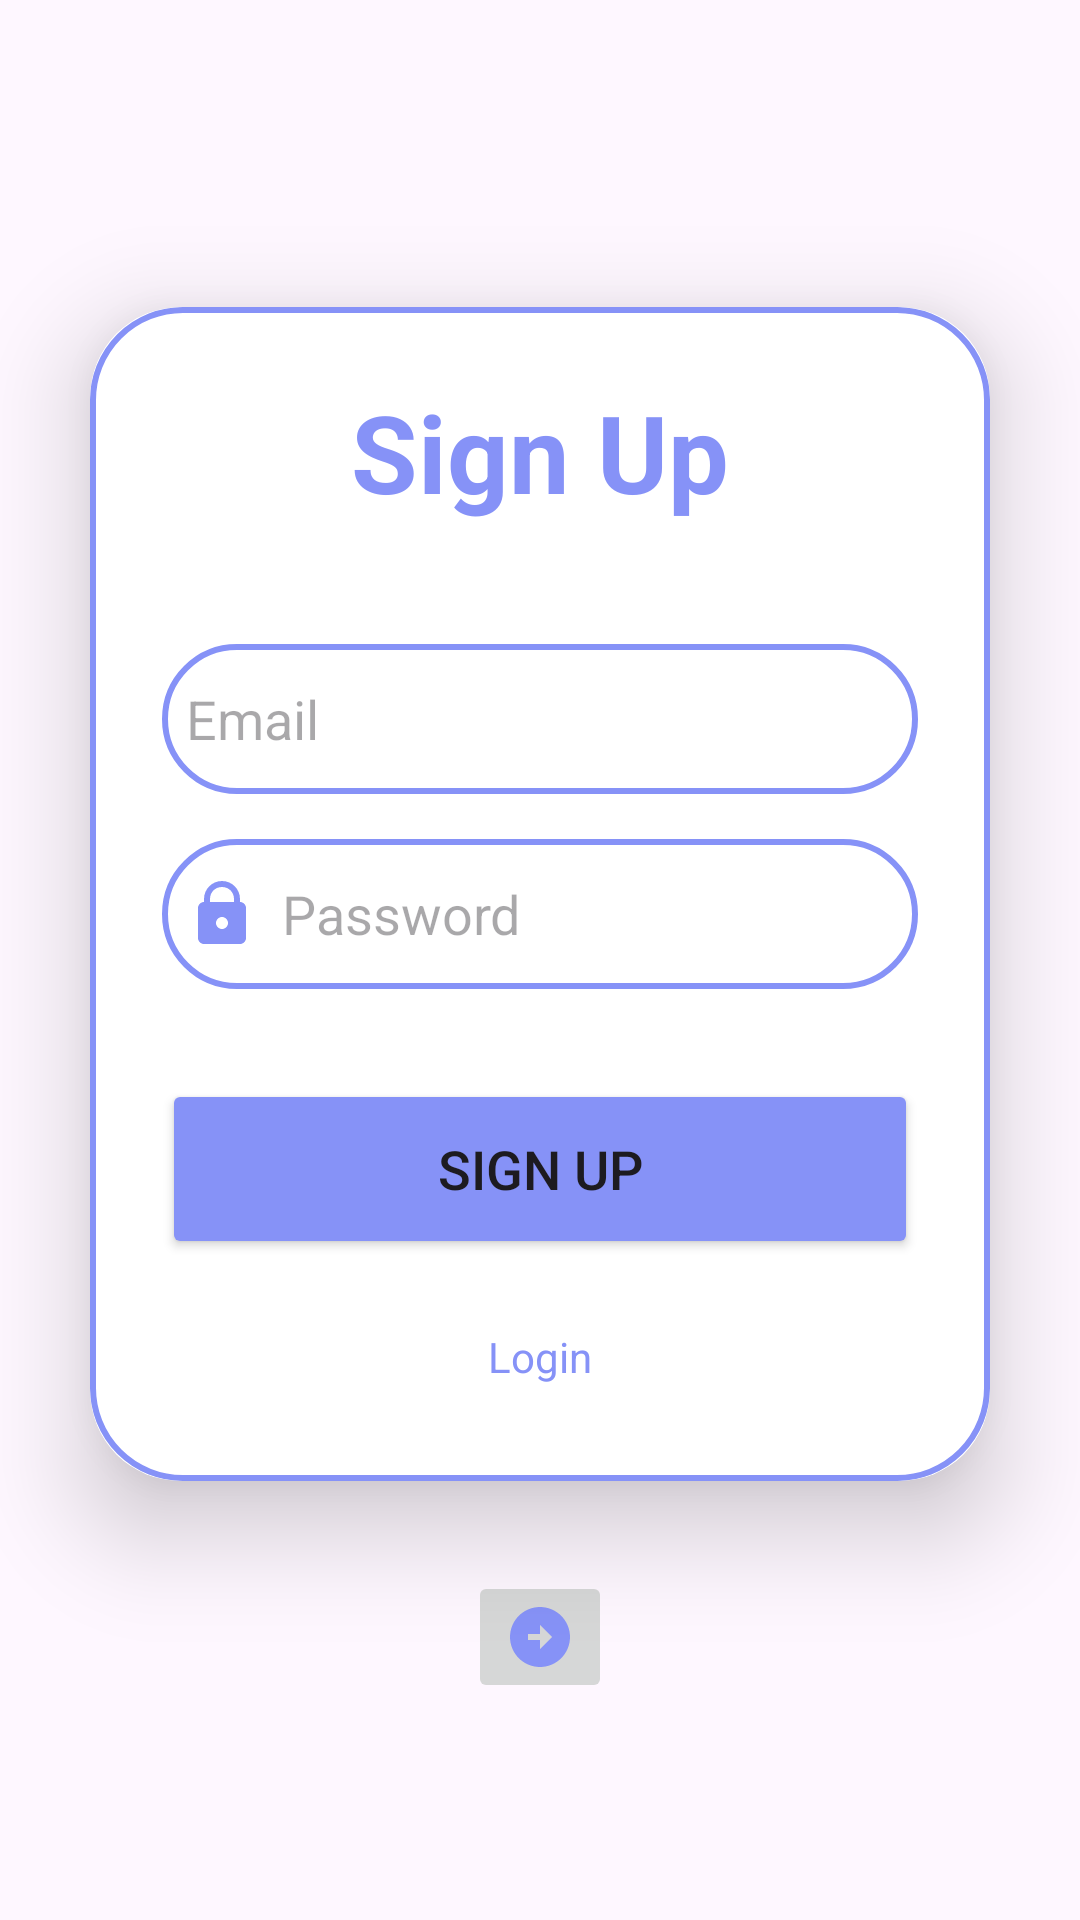

Icons on this 1080 x 1920 Android screen, each with the point to tap as (x,y):
arrow circle right: (540,1637)
